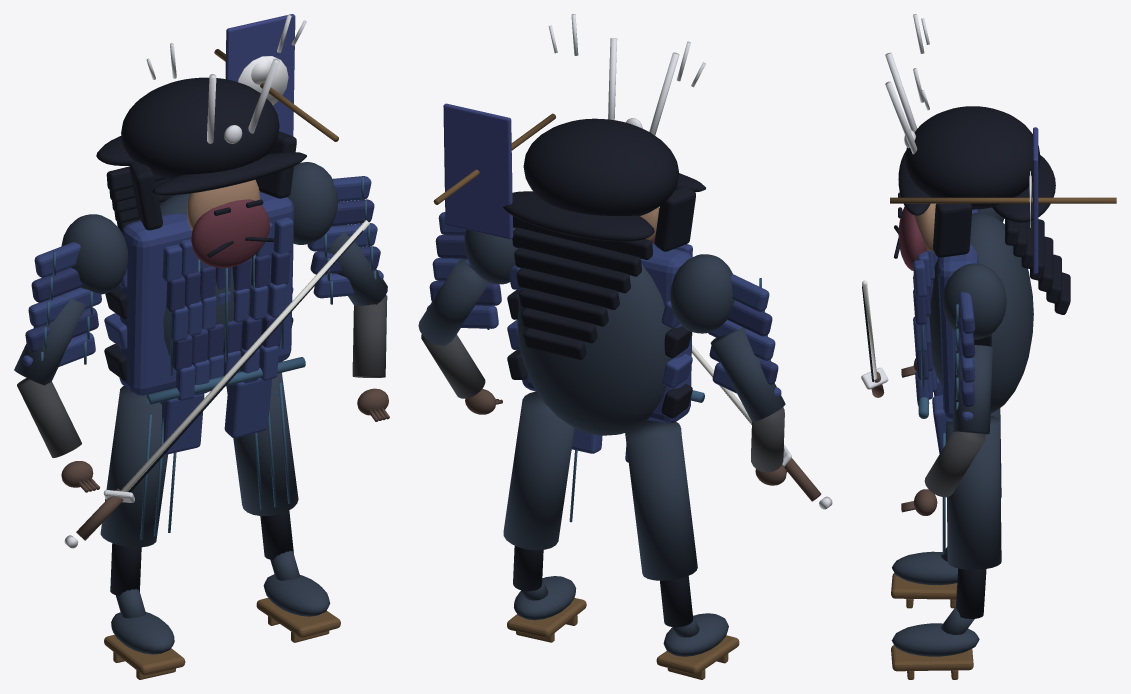
Rendered from uesugi-08.glb.
3 views of the same model, side by side, from view 1: azimuth 30°, elevation 25°; view 2: azimuth 150°, elevation 25°; view 3: azimuth 270°, elevation 25° (orthographic). The views are drawn at different scales.
Parts seen in each view (by area): view 1: kabuto_helmet_bowl, do_cuirass_core, left_hakama_outer_fold, right_hakama_outer_fold, mempo_cheek_mask, banner_cloth, left_rounded_shoulder_undercloth, right_rounded_shoulder_undercloth, left_forearm_kote, helmet_front_brim, right_forearm_kote, left_upper_arm_cloth (+47 smaller); view 2: cloth_torso_underlayer, kabuto_helmet_bowl, left_hakama_outer_fold, banner_cloth, right_hakama_outer_fold, left_rounded_shoulder_undercloth, helmet_rear_flare, left_upper_arm_cloth, right_upper_arm_cloth, shikoro_neck_guard_1, shikoro_neck_guard_2, do_cuirass_core (+26 smaller); view 3: kabuto_helmet_bowl, cloth_torso_underlayer, right_hakama_outer_fold, right_rounded_shoulder_undercloth, right_upper_arm_cloth, do_cuirass_core, right_forearm_kote, right_tabi_sock, right_fukigaeshi_flare, left_tabi_sock, banner_pole, helmet_rear_flare (+21 smaller).
Part boxes in pixels (box(x1,y1,x2,y2)): kabuto_helmet_bowl: box(121, 77, 279, 179); do_cuirass_core: box(119, 191, 293, 395); left_hakama_outer_fold: box(100, 386, 167, 547); right_hakama_outer_fold: box(226, 372, 298, 516); mempo_cheek_mask: box(191, 199, 269, 268); banner_cloth: box(225, 14, 295, 136); left_rounded_shoulder_undercloth: box(61, 214, 128, 294); right_rounded_shoulder_undercloth: box(287, 162, 337, 244); left_forearm_kote: box(17, 378, 81, 457); helmet_front_brim: box(152, 152, 306, 195); right_forearm_kote: box(352, 295, 387, 377); left_upper_arm_cloth: box(14, 294, 85, 385); cloth_torso_underlayer: box(517, 263, 673, 435); kabuto_helmet_bowl: box(523, 118, 679, 215); left_hakama_outer_fold: box(625, 420, 697, 580); banner_cloth: box(443, 103, 513, 239); right_hakama_outer_fold: box(503, 391, 574, 550); left_rounded_shoulder_undercloth: box(670, 254, 734, 333); helmet_rear_flare: box(503, 191, 654, 241); left_upper_arm_cloth: box(710, 327, 785, 421); right_upper_arm_cloth: box(418, 258, 489, 345); shikoro_neck_guard_1: box(512, 227, 641, 276); shikoro_neck_guard_2: box(514, 247, 630, 293); do_cuirass_core: box(522, 243, 692, 423); kabuto_helmet_bowl: box(905, 106, 1040, 209); cloth_torso_underlayer: box(929, 212, 1033, 413); right_hakama_outer_fold: box(946, 415, 1001, 569); right_rounded_shoulder_undercloth: box(942, 263, 1006, 339); right_upper_arm_cloth: box(952, 345, 992, 434); do_cuirass_core: box(938, 209, 978, 419); right_forearm_kote: box(924, 431, 985, 497); right_tabi_sock: box(891, 623, 979, 656); right_fukigaeshi_flare: box(933, 203, 972, 257); left_tabi_sock: box(892, 551, 957, 585); banner_pole: box(890, 197, 1116, 203); helmet_rear_flare: box(992, 155, 1055, 222).
Bounding box in the file's own units: 1.19 × 1.94 × 0.7552.
